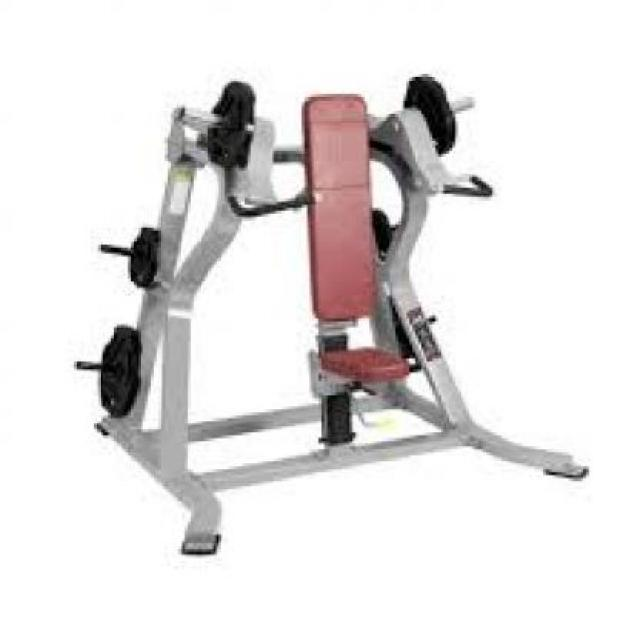shoulder press machine: (67, 66, 596, 566)
